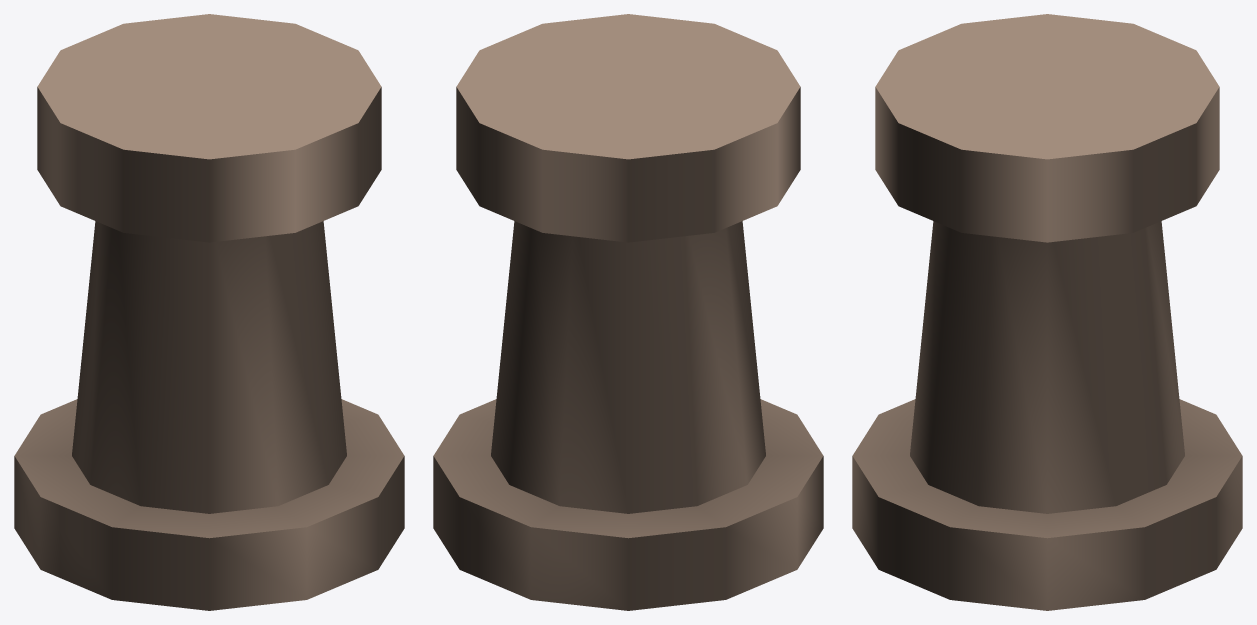
Rendered from mooring_bollard.glb.
3 views of the same model, side by side, from view 1: azimuth 30°, elevation 25°; view 2: azimuth 150°, elevation 25°; view 3: azimuth 270°, elevation 25° (orthographic).
Visible parts, largest first — view 1: props_mooring_bollard; view 2: props_mooring_bollard; view 3: props_mooring_bollard.
Part boxes in pixels (bbox=[...]): props_mooring_bollard: bbox=[14, 14, 404, 610]; props_mooring_bollard: bbox=[433, 14, 823, 610]; props_mooring_bollard: bbox=[852, 14, 1242, 610].
Bounding box in the file's own units: 0.68 × 0.85 × 0.68.
